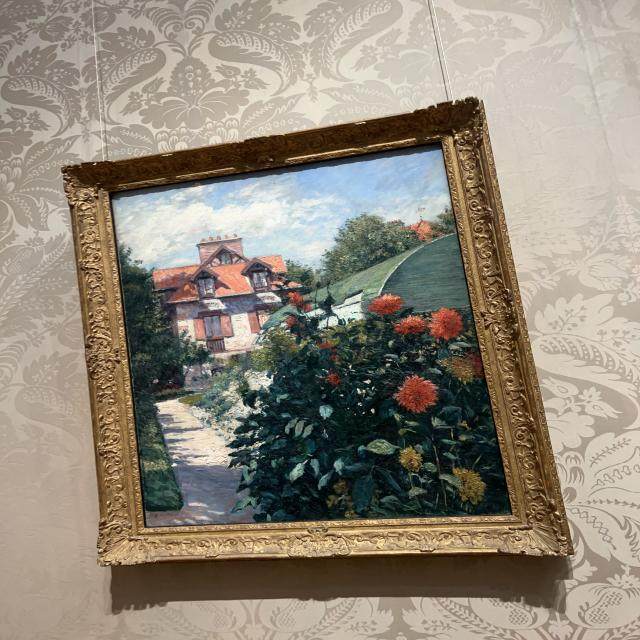summer: (110, 144, 512, 527)
